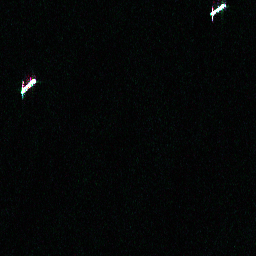ship: (18, 75, 38, 96), (207, 1, 228, 18)
